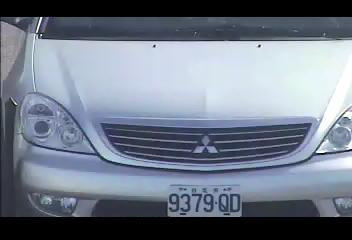plate: (165, 183, 244, 219)
